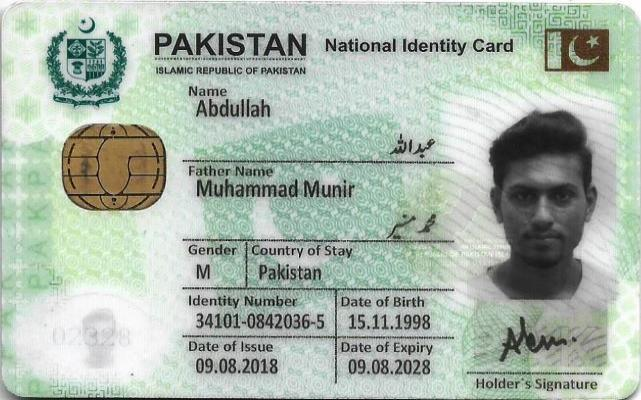fname: (193, 176, 357, 201)
name: (190, 97, 274, 121)
number: (190, 308, 329, 334)
